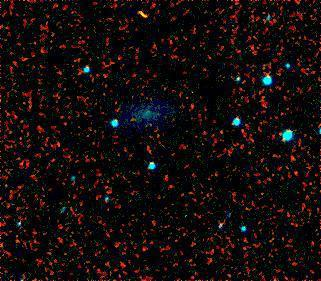star: (128, 3, 158, 33)
